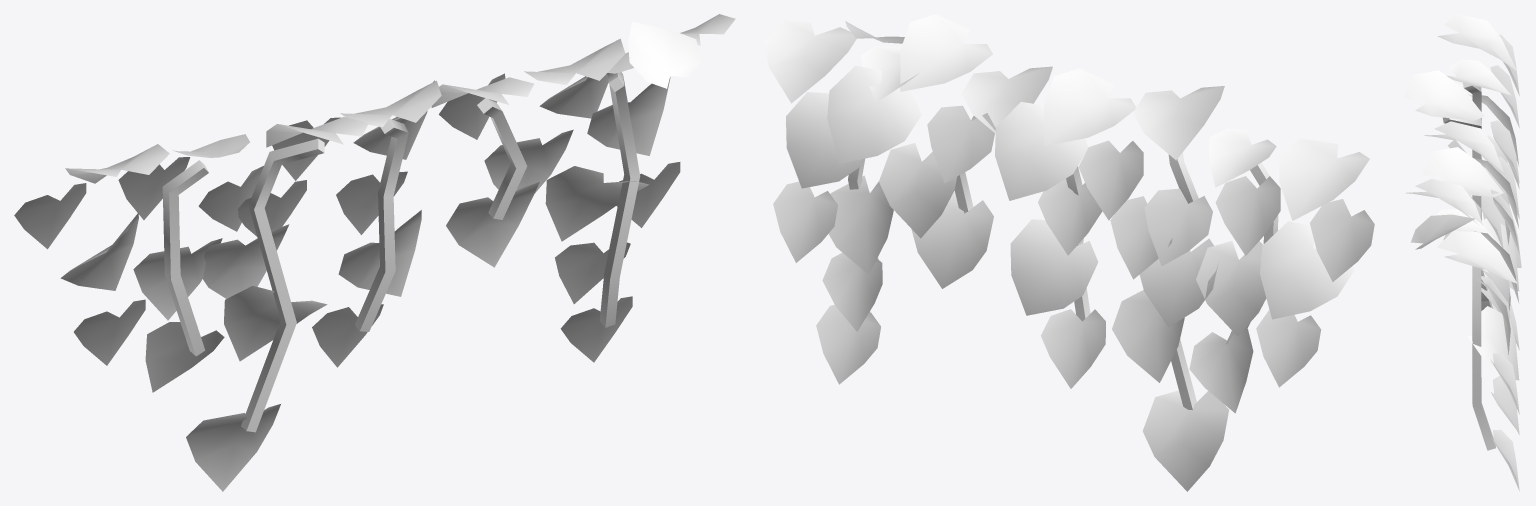
The model's file is SM_Foliage_2x1.fbx.
3 views of the same model, side by side, from view 1: azimuth 30°, elevation 25°; view 2: azimuth 150°, elevation 25°; view 3: azimuth 270°, elevation 25° (orthographic). The views are drawn at different scales.
Parts seen in each view (by area): view 1: Liane 2x1; view 2: Liane 2x1; view 3: Liane 2x1.
Part boxes in pixels (x1,y1,x2,y2): Liane 2x1: (14,14,735,491); Liane 2x1: (764,14,1374,491); Liane 2x1: (1403,14,1521,490).
Bounding box in the file's own units: 207 × 115 × 40.16.
